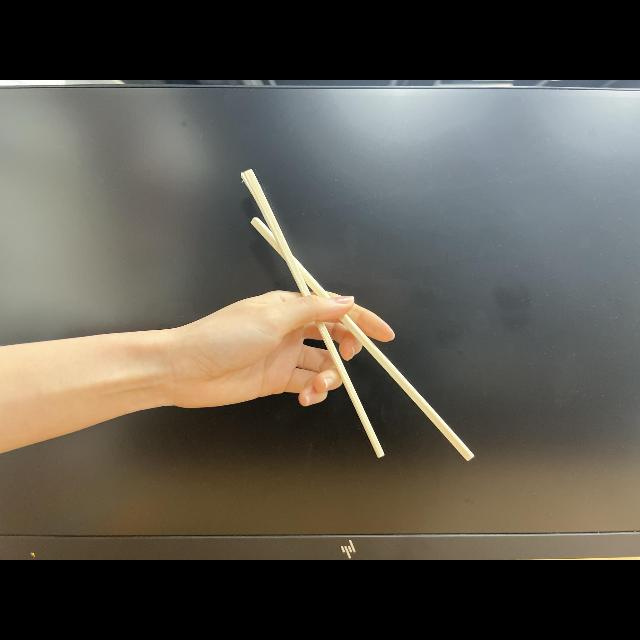stick: (184, 168, 476, 464)
